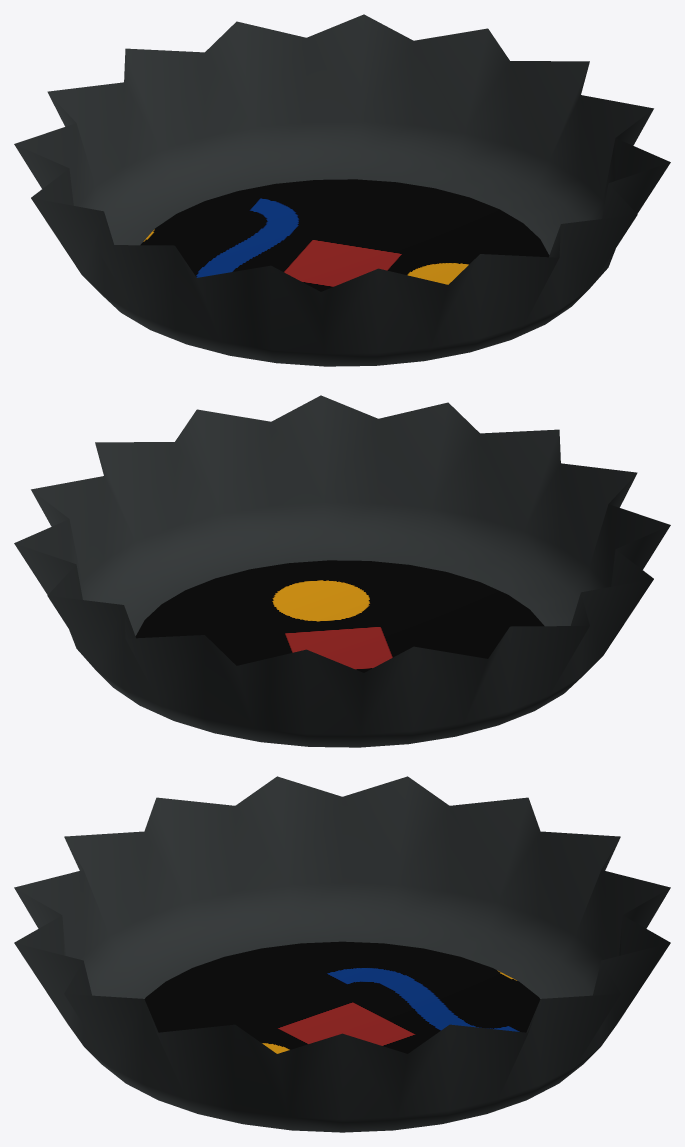
File: chapa.obj
3 views of the same model, one above another, from view 1: azimuth 30°, elevation 25°; view 2: azimuth 150°, elevation 25°; view 3: azimuth 270°, elevation 25° (orthographic).
Visible parts, largest first — view 1: Cylinder_Cylinder.001; view 2: Cylinder_Cylinder.001; view 3: Cylinder_Cylinder.001.
Boxes of the visible parts, x1=… form: Cylinder_Cylinder.001: x1=14, y1=14, x2=670, y2=366; Cylinder_Cylinder.001: x1=14, y1=395, x2=670, y2=747; Cylinder_Cylinder.001: x1=14, y1=776, x2=670, y2=1132.
Bounding box in the file's own units: 2.35 × 0.4581 × 2.35.
